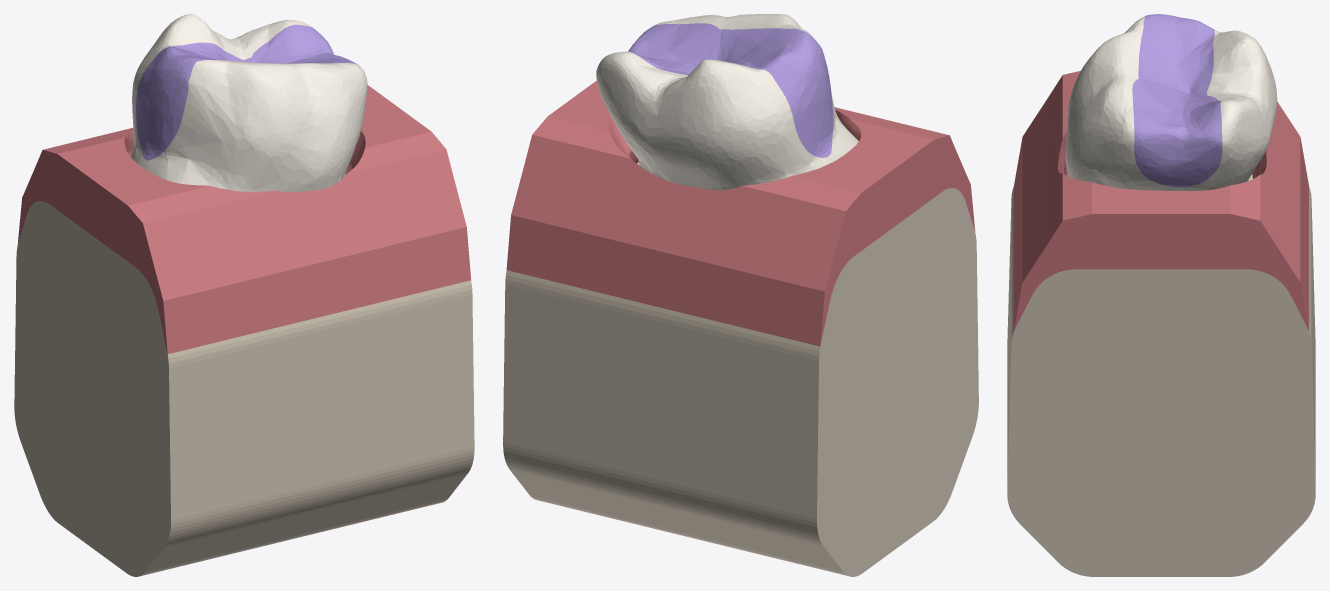
File: filling.glb
The picture shows the model from 3 angles, left to right: view 1: azimuth 30°, elevation 25°; view 2: azimuth 150°, elevation 25°; view 3: azimuth 270°, elevation 25°; orthographic projection. The views are drawn at different scales.
Parts seen in each view (by area): view 1: bone, gum, teeth, filling; view 2: bone, gum, teeth, filling; view 3: bone, gum, teeth, filling.
Part boxes in pixels (<box>): bone: <box>14,201,474,576</box>; gum: <box>18,85,471,353</box>; teeth: <box>130,14,367,191</box>; filling: <box>136,24,358,160</box>; bone: <box>503,162,978,576</box>; gum: <box>506,80,975,346</box>; teeth: <box>596,14,858,189</box>; filling: <box>628,23,833,157</box>; bone: <box>1007,173,1315,576</box>; gum: <box>1014,71,1308,330</box>; teeth: <box>1065,16,1277,190</box>; filling: <box>1132,14,1222,186</box>.
Size of the model in its own units: 0.0142 by 0.0209 by 0.0127.
